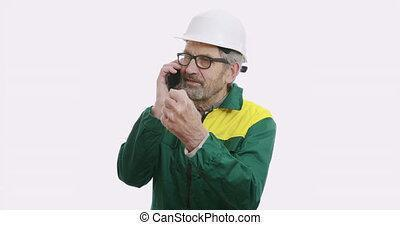helmet: (173, 7, 248, 61)
